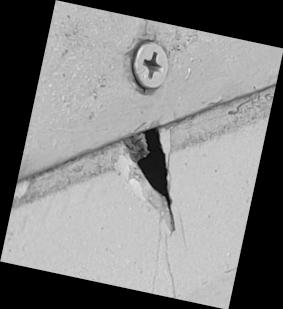crack: (0, 1, 282, 309)
